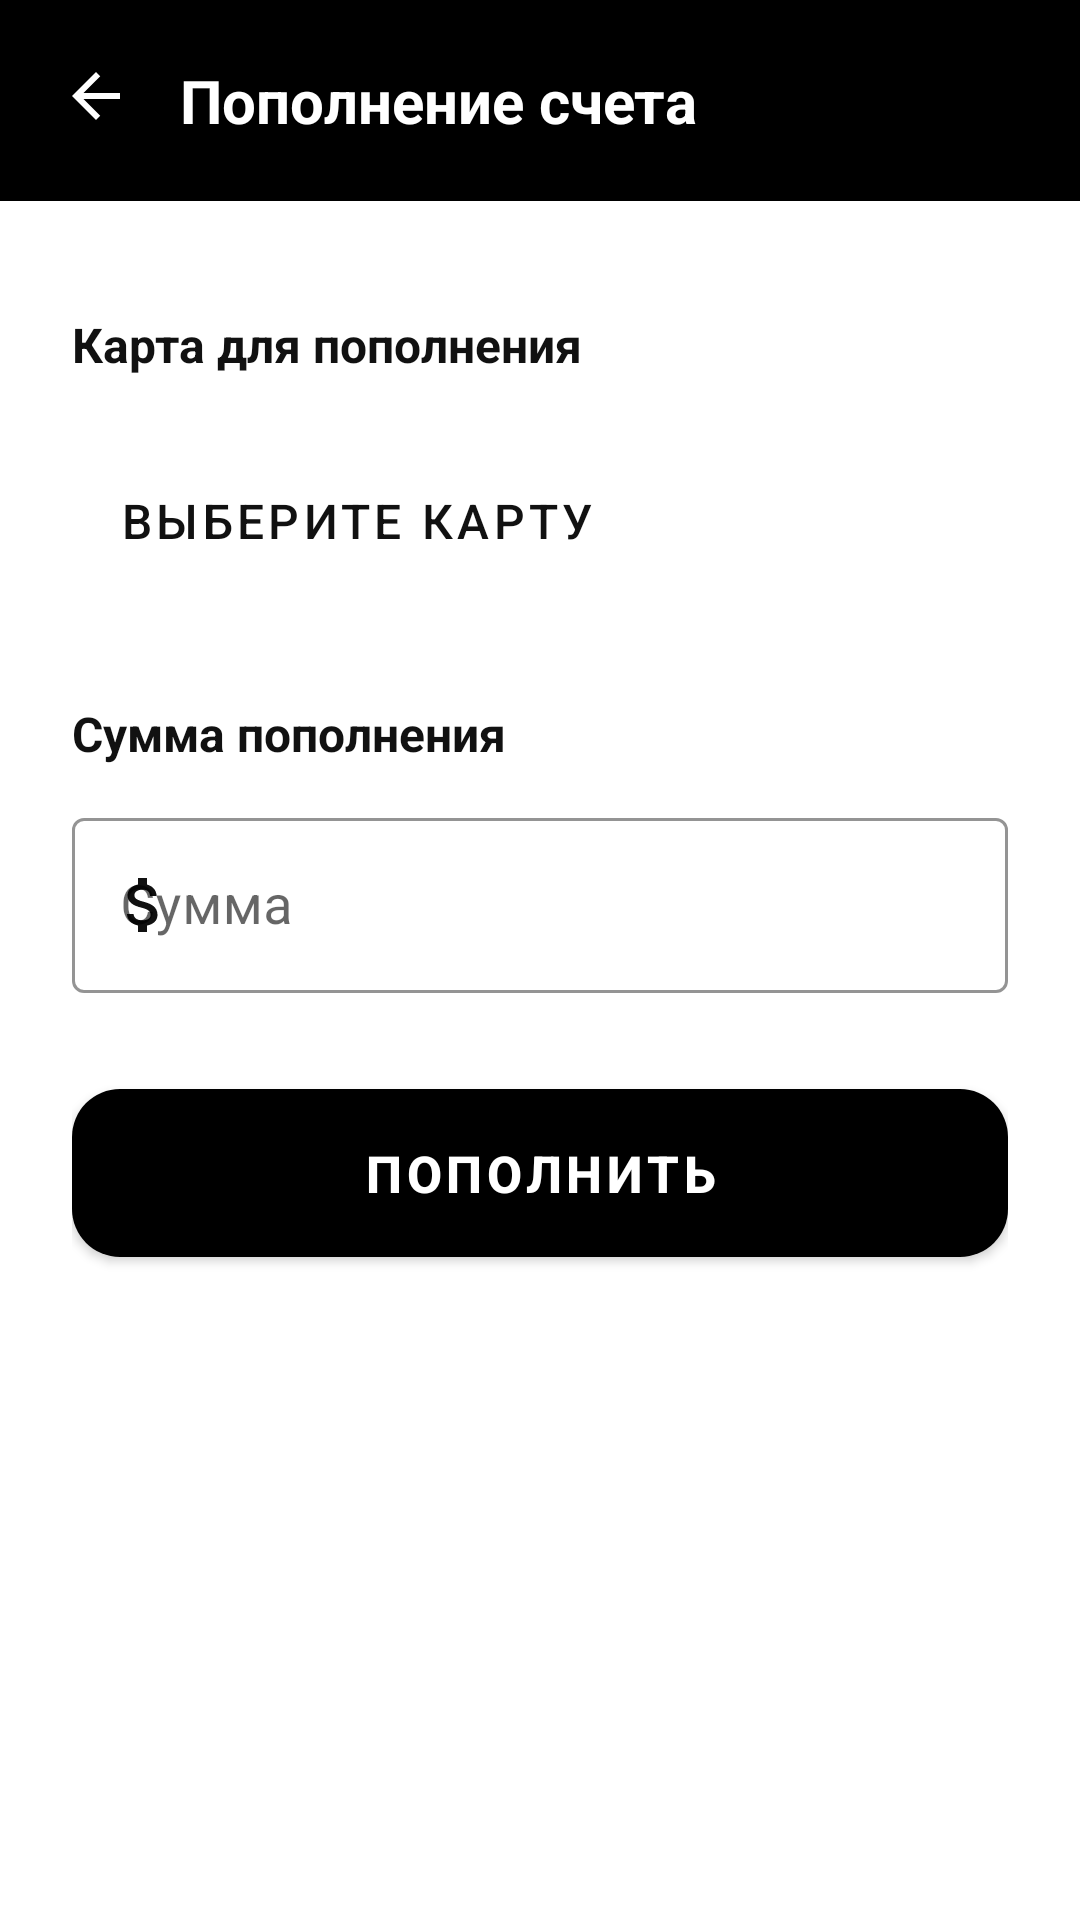

Named icons in this screenshot (1080*1920) and their bounding boxes, (x1, y1, x2, y2):
arrow back: (72, 72, 120, 120)
